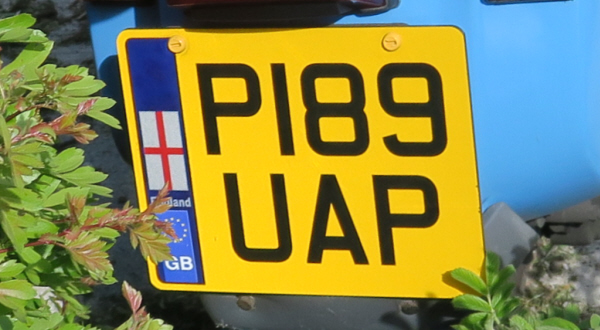license_plate: (115, 24, 492, 299)
